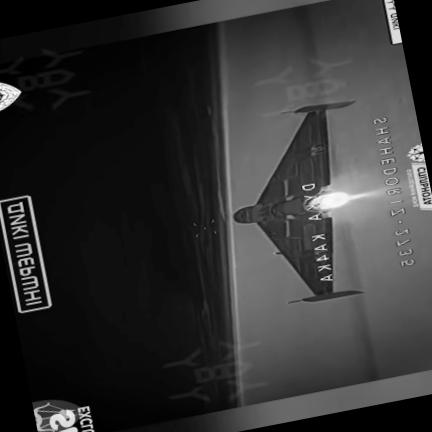Shahed: (233, 101, 363, 304)
